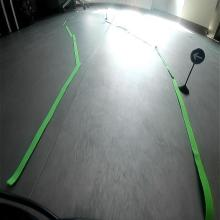left: (190, 46, 206, 65)
